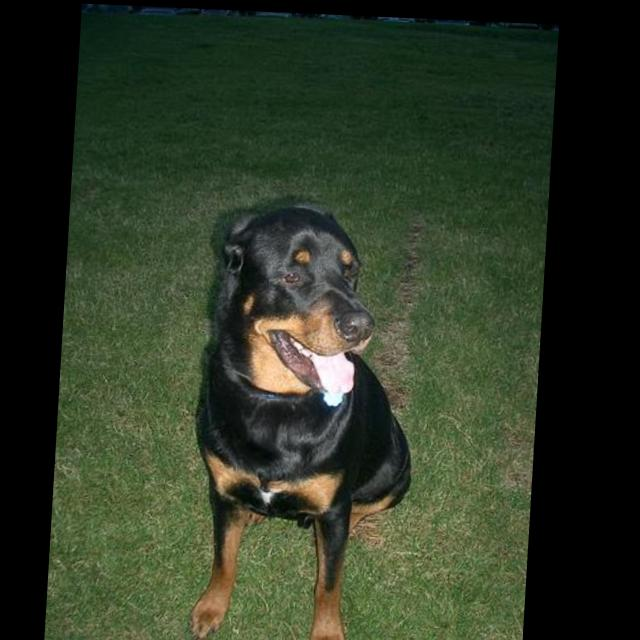rottweiler: (189, 197, 431, 640)
